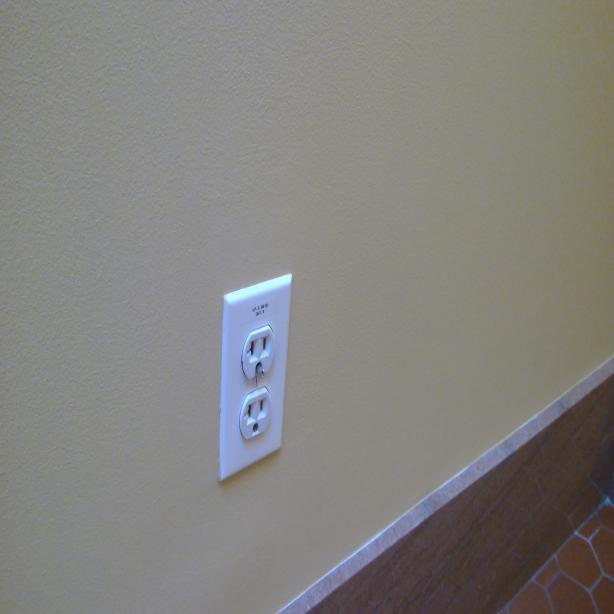typeb: (244, 326, 273, 378), (240, 393, 270, 441)
